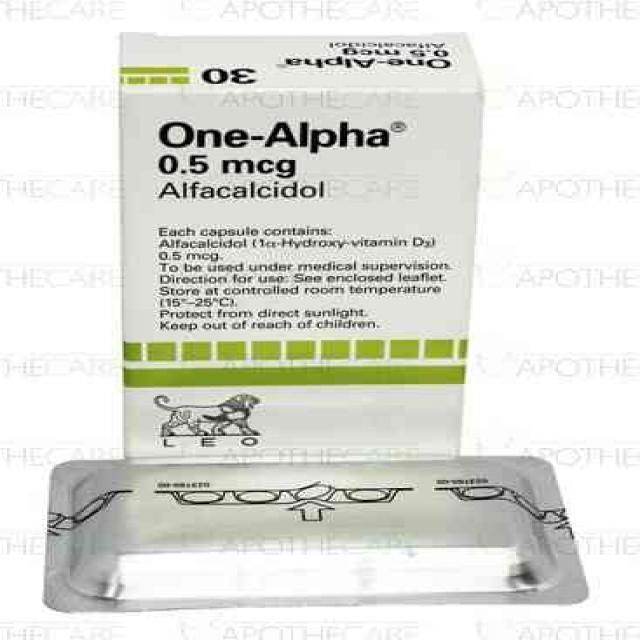drug-name: (158, 118, 390, 156)
